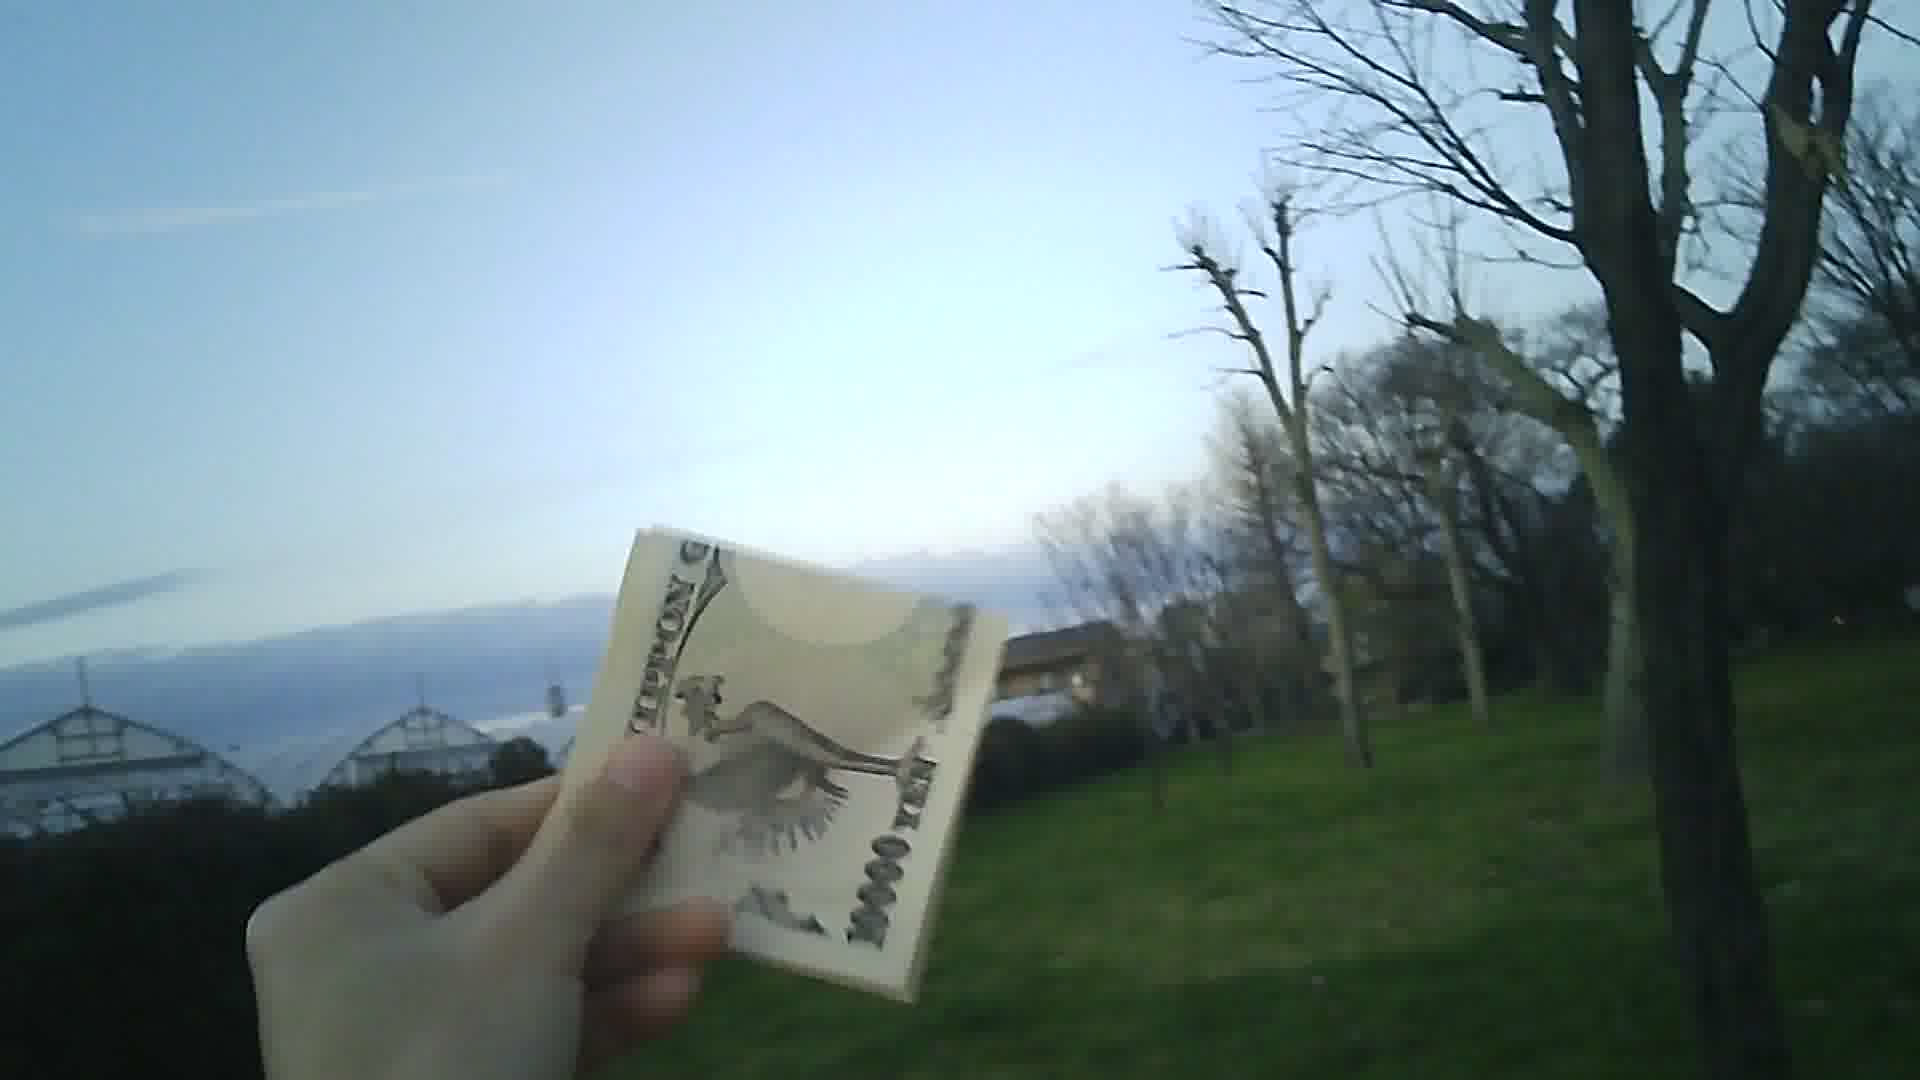10,000 Yen: (518, 517, 1054, 1044)
